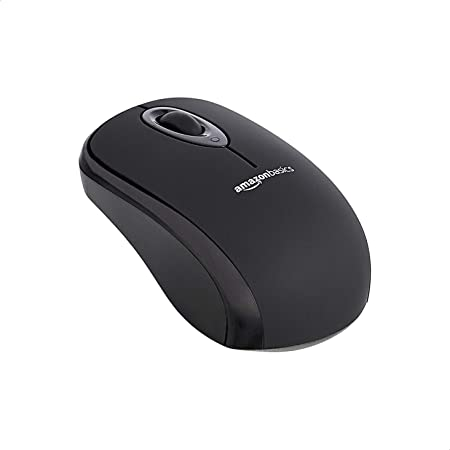mouse: (75, 78, 377, 352)
